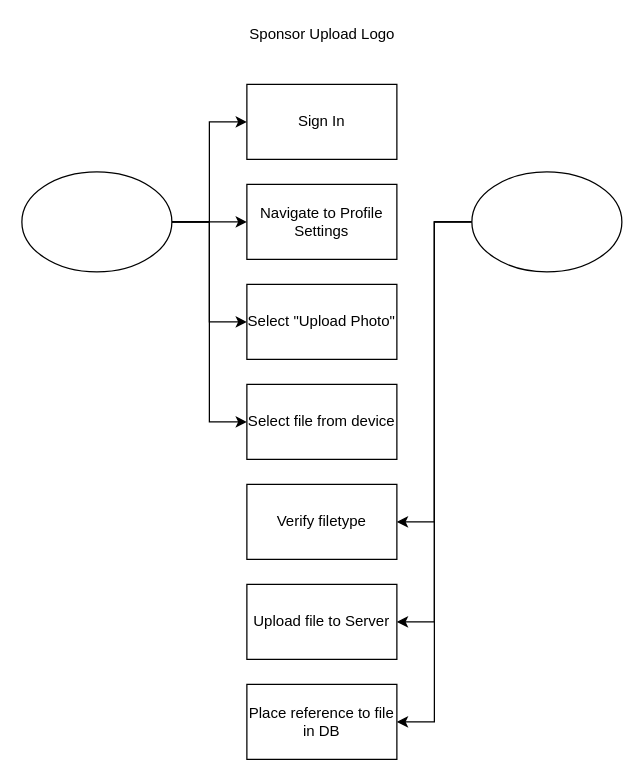
The diagram is 644 pixels wide and 781 high, and some of its shapes have lost their labels. Here are the shapes that lost their labels. From the top down, the centre of each, then its label:
At [96,221]: "Sponsor".
At [546,221]: "Backend".
